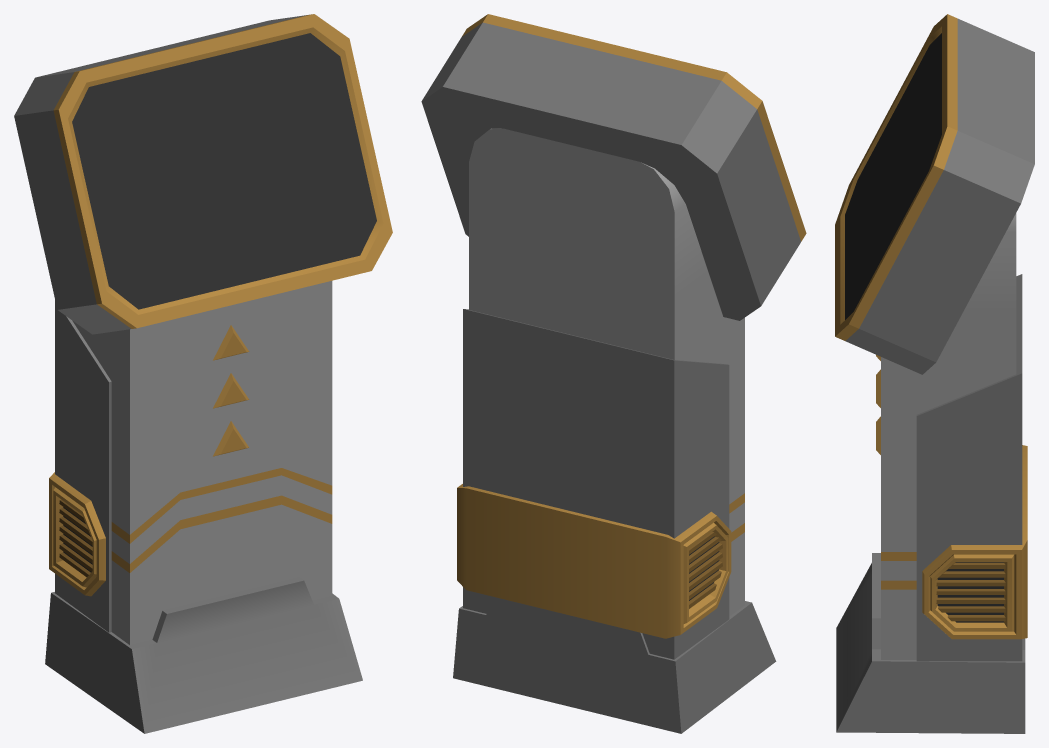
Rendered from Props_ComputerSmall.glb.
3 views of the same model, side by side, from view 1: azimuth 30°, elevation 25°; view 2: azimuth 150°, elevation 25°; view 3: azimuth 270°, elevation 25° (orthographic). The views are drawn at different scales.
Parts seen in each view (by area): view 1: Props_ComputerSmall; view 2: Props_ComputerSmall; view 3: Props_ComputerSmall.
Boxes of the visible parts, <box> form: Props_ComputerSmall: <box>14,14,392,733</box>; Props_ComputerSmall: <box>421,14,806,733</box>; Props_ComputerSmall: <box>835,14,1034,733</box>.
Size of the model in its own units: 0.7512 by 1.54 by 0.4564.
